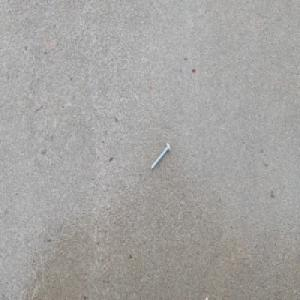Nail: (150, 141, 171, 171)
